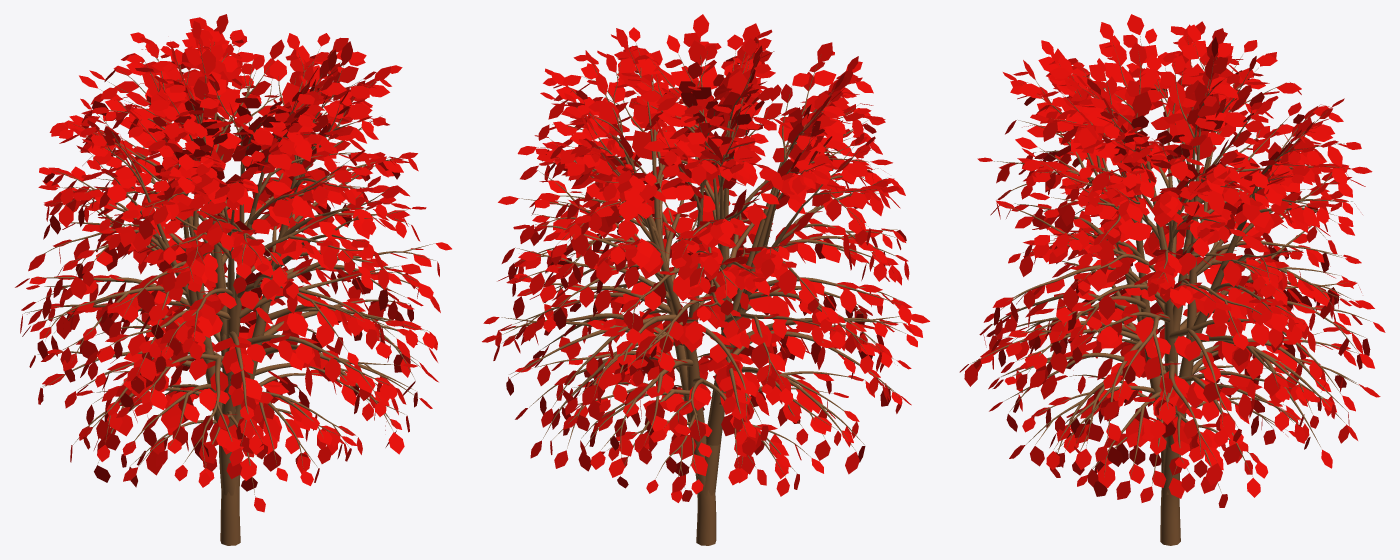
The model's file is Maple_3.glb.
3 views of the same model, side by side, from view 1: azimuth 30°, elevation 25°; view 2: azimuth 150°, elevation 25°; view 3: azimuth 270°, elevation 25° (orthographic).
Parts seen in each view (by area): view 1: leaves, tree; view 2: leaves, tree; view 3: leaves, tree.
Boxes of the visible parts, left/top/right/bottom form: leaves: left=15, top=14, right=451, bottom=512; tree: left=24, top=36, right=435, bottom=545; leaves: left=482, top=14, right=929, bottom=502; tree: left=499, top=40, right=906, bottom=545; leaves: left=959, top=14, right=1385, bottom=507; tree: left=970, top=36, right=1370, bottom=545.
Size of the model in its own units: 13.98 by 17.34 by 13.44.
